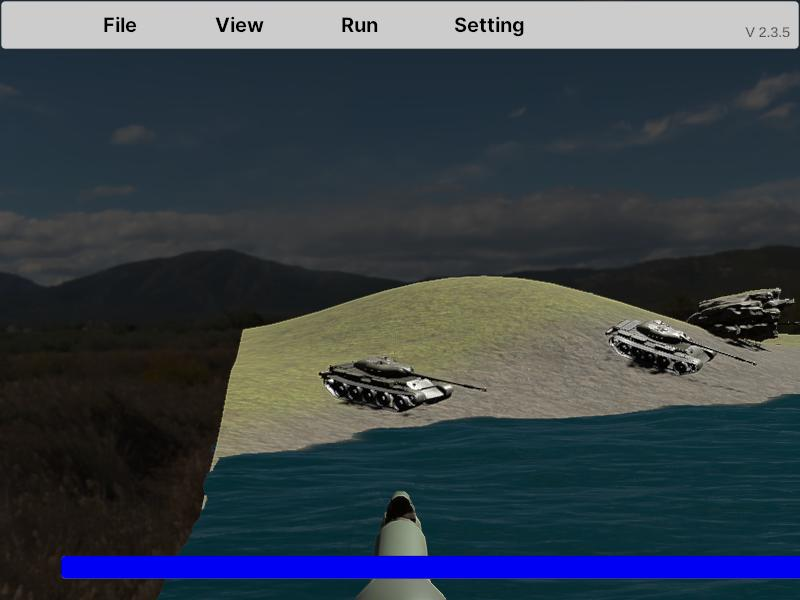Tank: (317, 354, 488, 413), (604, 319, 757, 376)
